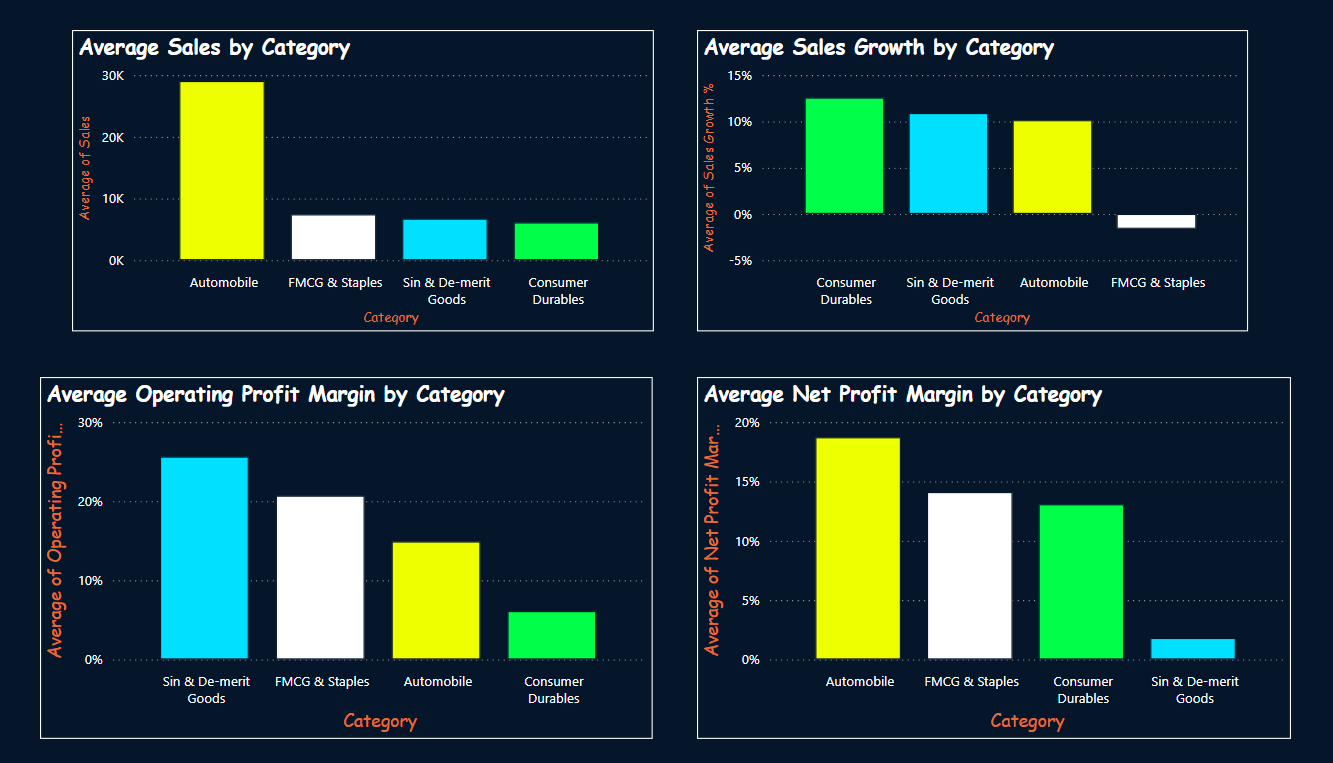

The dashboard page shown, as its layout file describes it:
{"tool":"powerbi","page":{"name":"Category Performance","canvas":[1280,720],"ordinal":4},"visuals":[{"type":"clusteredColumnChart","title":"Average Sales by Category","fields":{"Category":["Analysis Data.Category"],"Y":["Avg(Analysis Data.Sales)"]},"box":[90.5,50.6,529.1,274.3],"z":0},{"type":"clusteredColumnChart","title":"Average Sales Growth by Category","fields":{"Category":["Analysis Data.Category"],"Y":["Avg(Analysis Data.Sales Growth %)"]},"box":[659.5,50.6,500.9,274.3],"z":1000},{"type":"clusteredColumnChart","title":"Average Operating Profit Margin by Category","fields":{"Category":["Analysis Data.Category"],"Y":["Avg(Analysis Data.Operating Profit Margin %)"]},"box":[62.2,366.7,557.3,328.8],"z":2000},{"type":"clusteredColumnChart","title":"Average Net Profit Margin by Category","fields":{"Category":["Analysis Data.Category"],"Y":["Avg(Analysis Data.Net Profit Margin %)"]},"box":[659.5,366.7,539.8,328.8],"z":3000}]}

Visuals, with their boxes in screenshot pixels (x1, y1, x2, y2), scaled from the page's 1280x720 canvas onto the 1333x763 screenshot:
"Average Sales by Category" clusteredColumnChart: rect(94, 54, 645, 344)
"Average Sales Growth by Category" clusteredColumnChart: rect(687, 54, 1208, 344)
"Average Operating Profit Margin by Category" clusteredColumnChart: rect(65, 389, 645, 737)
"Average Net Profit Margin by Category" clusteredColumnChart: rect(687, 389, 1249, 737)
